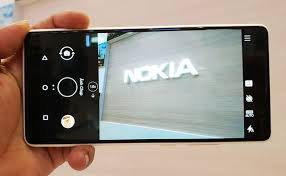nokia: (20, 22, 273, 147)
